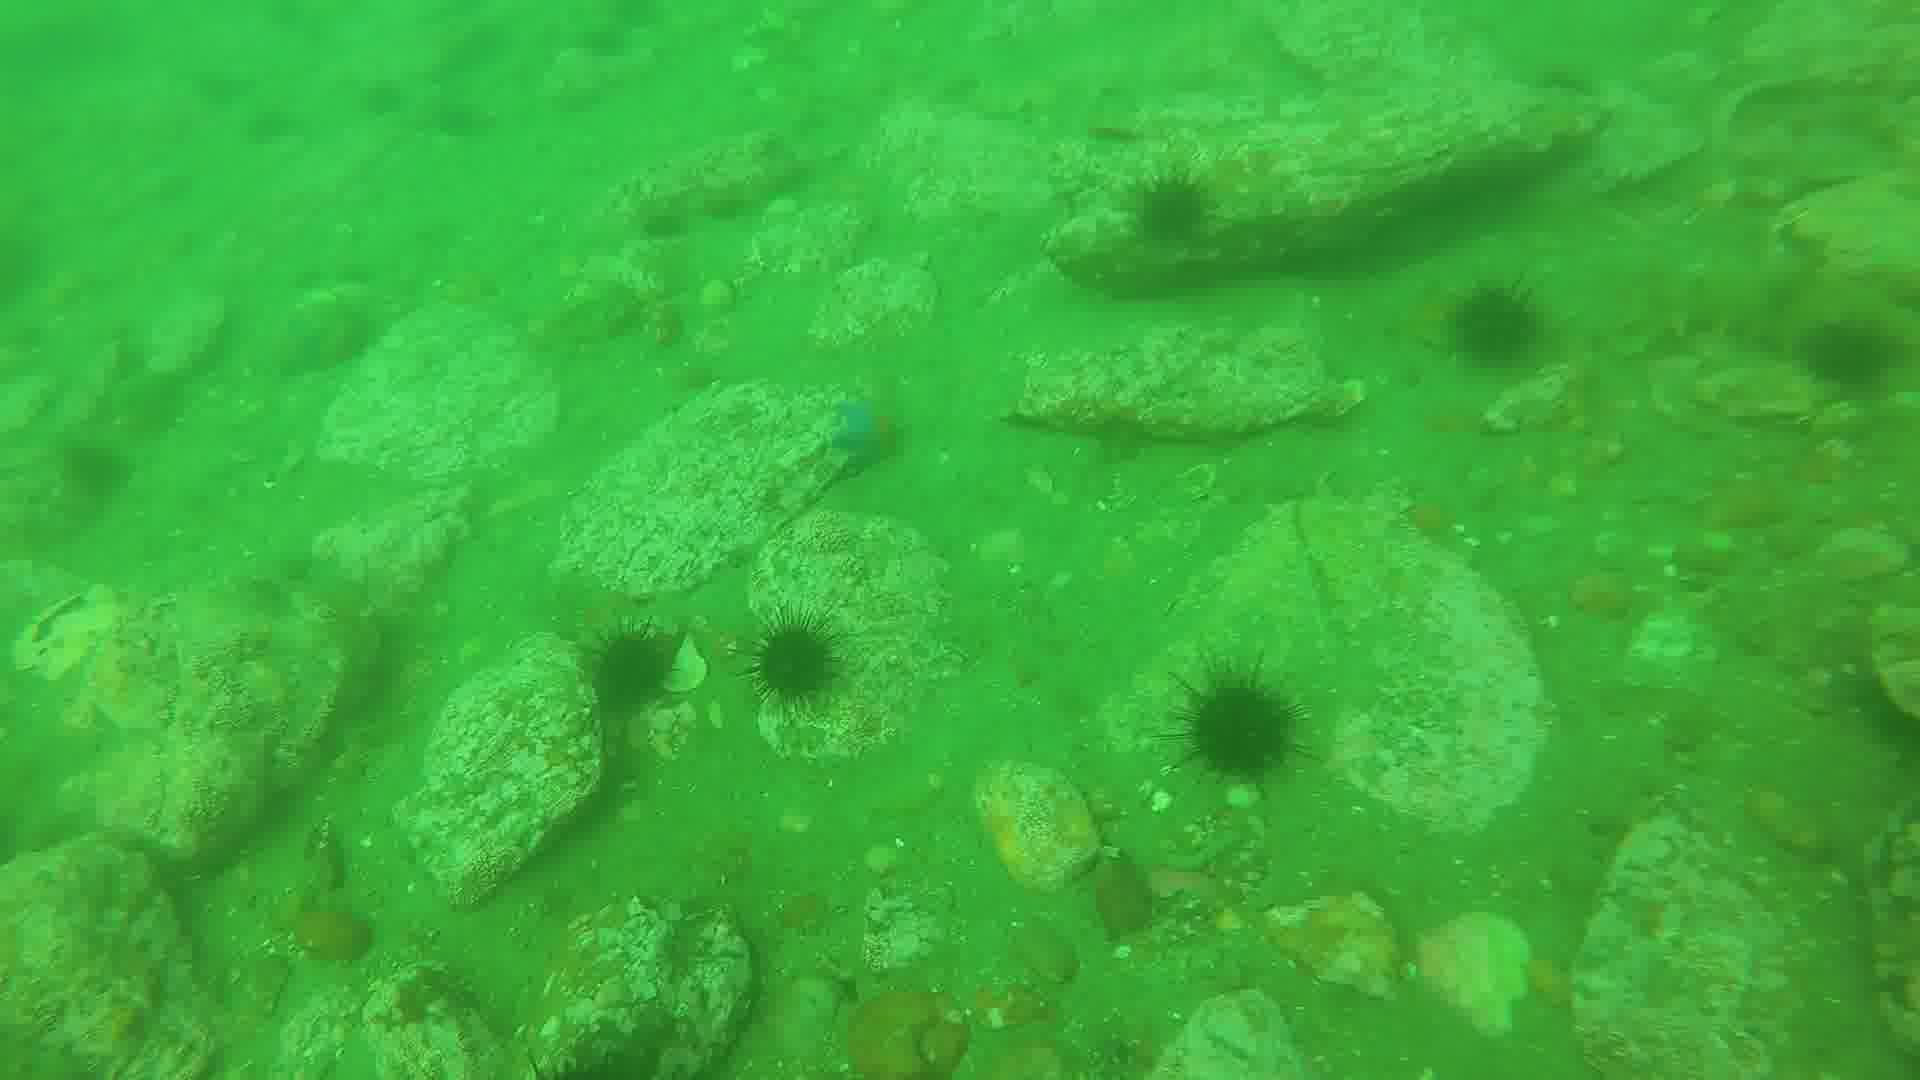echinus: (1174, 676, 1298, 781), (748, 615, 849, 709), (585, 622, 683, 712), (1812, 309, 1899, 396), (1455, 278, 1542, 357), (1139, 177, 1212, 247)
holothurian: (1639, 274, 1836, 355)
starfish: (833, 400, 905, 473)
